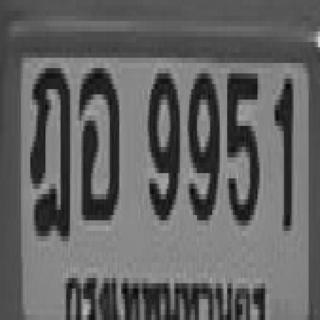A14: (28, 63, 68, 236)
A43: (78, 63, 117, 215)
N01: (273, 73, 292, 226)
N05: (225, 68, 258, 220)
N09: (146, 68, 178, 215), (187, 68, 218, 215)
